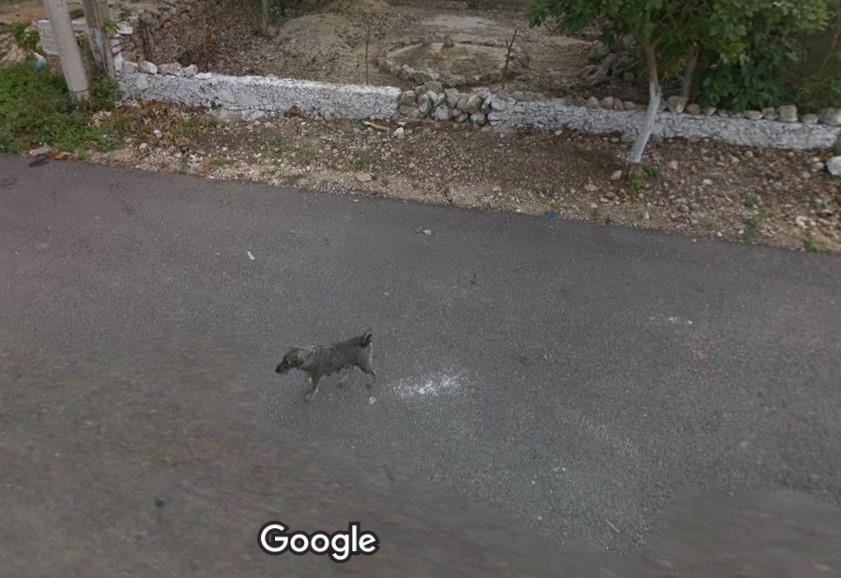normal_dogs: (270, 323, 392, 406)
